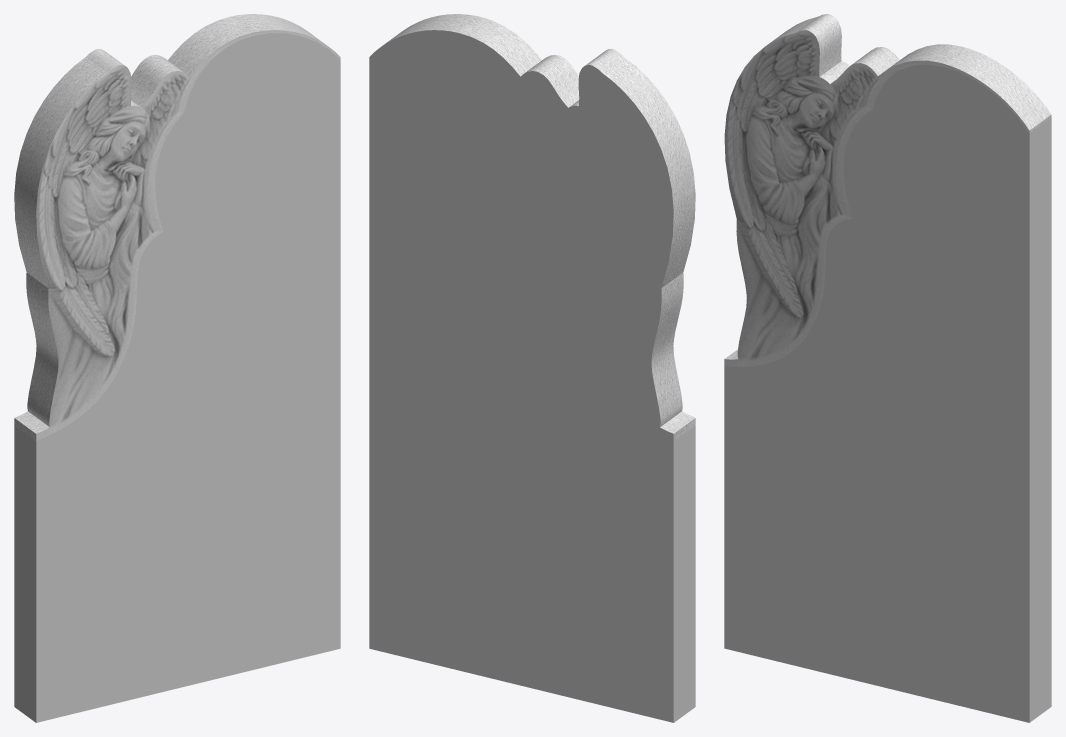
The model's file is cnc512832607_tkf.glb.
The picture shows the model from 3 angles, left to right: view 1: azimuth 30°, elevation 25°; view 2: azimuth 150°, elevation 25°; view 3: azimuth 330°, elevation 25°; orthographic projection.
Visible parts, largest first — view 1: Pam-d03-032, Pam-d03-032_2_notexture; view 2: Pam-d03-032, Pam-d03-032_2_notexture; view 3: Pam-d03-032, Pam-d03-032_2_notexture.
Boxes of the visible parts, x1,y1,x2,y2 form: Pam-d03-032: (14,33,340,722); Pam-d03-032_2_notexture: (14,14,340,441); Pam-d03-032: (369,30,695,722); Pam-d03-032_2_notexture: (384,14,695,441); Pam-d03-032: (724,64,1051,722); Pam-d03-032_2_notexture: (724,14,1051,367).
Bounding box in the file's own units: 0.4 × 0.8 × 0.05.
1 material, 1 textured.
